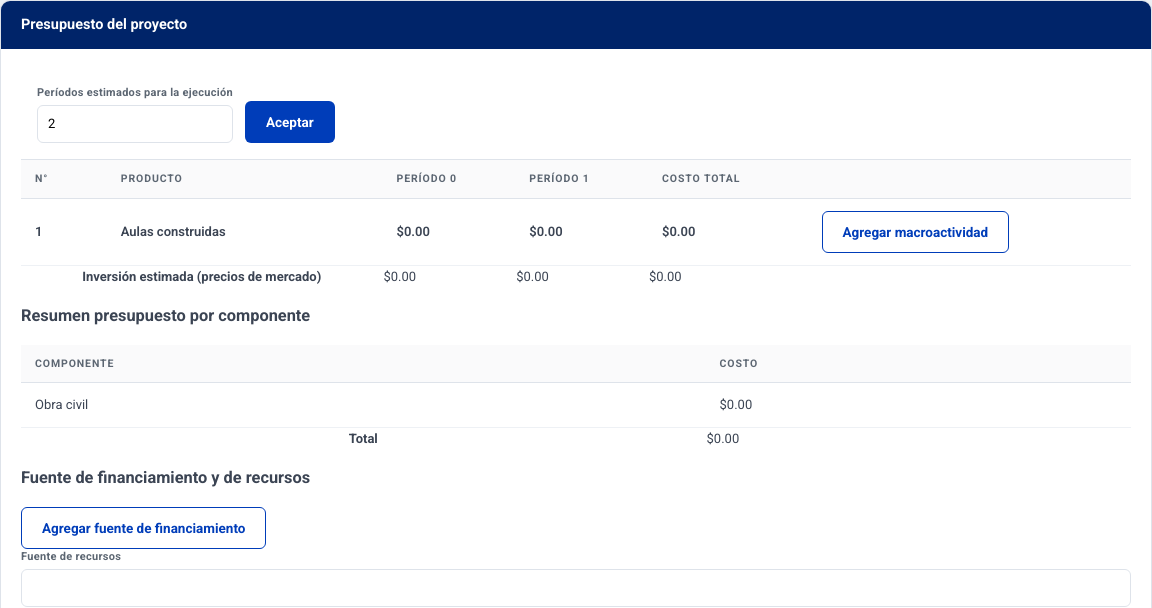
PresupuestoPage · CU-PRE-17 › fuentes de financiamiento (RN14) › permite agregar una fuente adicional con el botón +
Check: the text "Aulas construidas" is shown, box [107,198,382,265]
Click the button "Agregar fuente de financiamiento" at (144, 528), box [21,507,266,549]
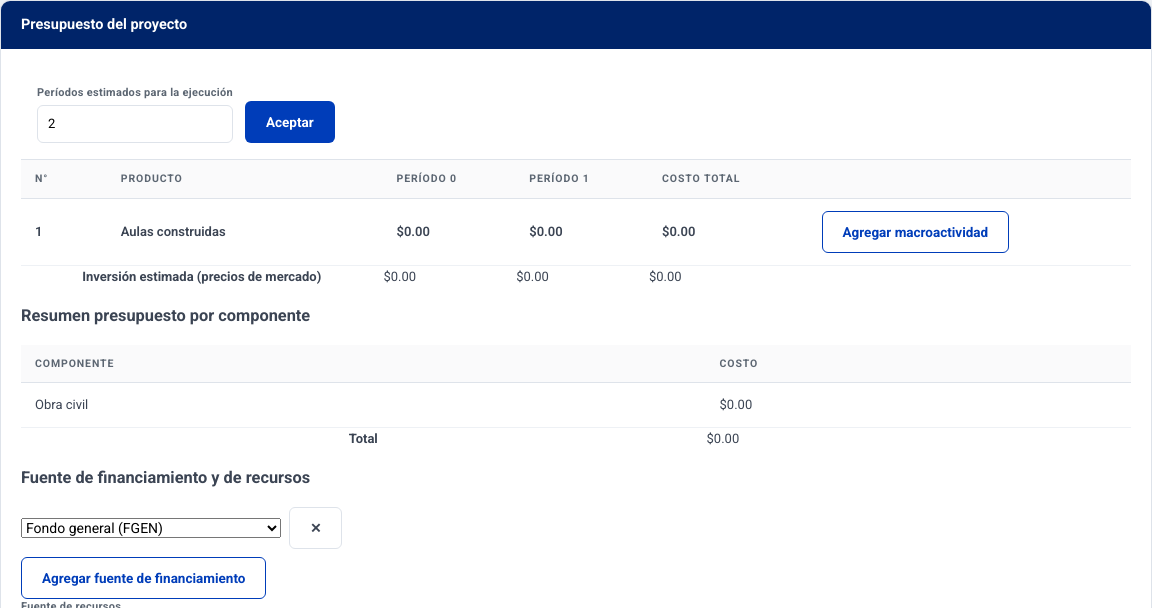
Check: the dropdown named "Fuente de financiamiento 1" is shown, box [21,518,281,538]
Click the button "Agregar fuente de financiamiento" at (144, 578), box [21,557,266,599]
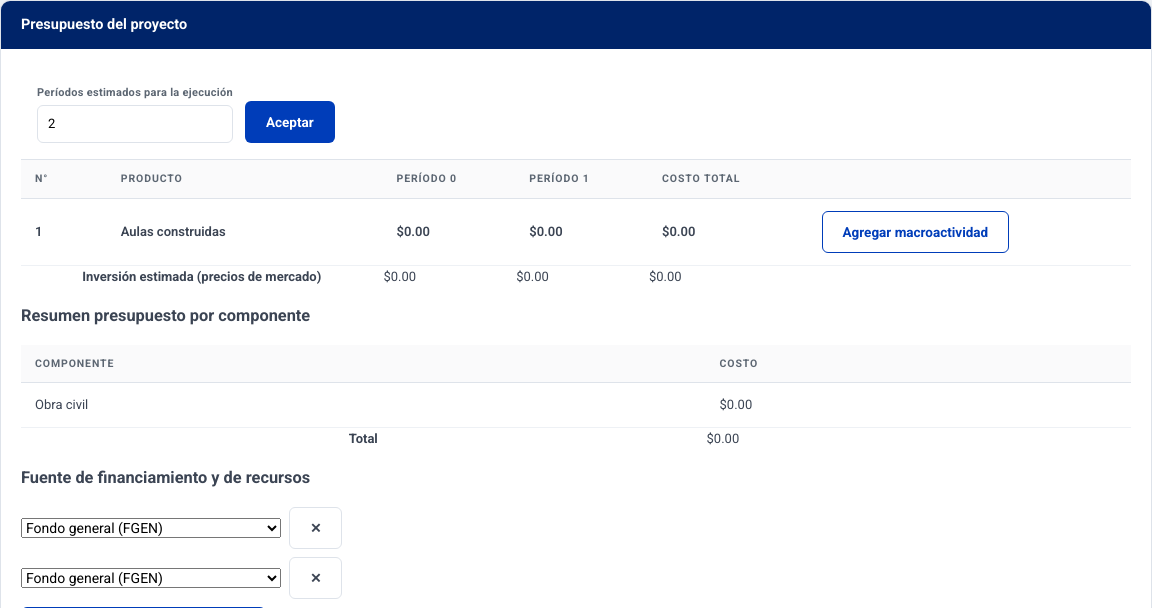
Check: the dropdown named "Fuente de financiamiento 2" is shown, box [21,568,281,588]
